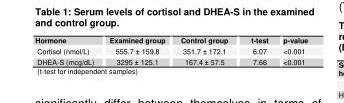table: (34, 34, 307, 66)
table column: (101, 34, 172, 66), (34, 34, 101, 66), (172, 34, 238, 66), (238, 34, 274, 66), (274, 34, 307, 66)
table column header: (34, 34, 307, 44)
table row: (34, 44, 307, 55), (34, 55, 307, 66), (34, 34, 307, 44)
